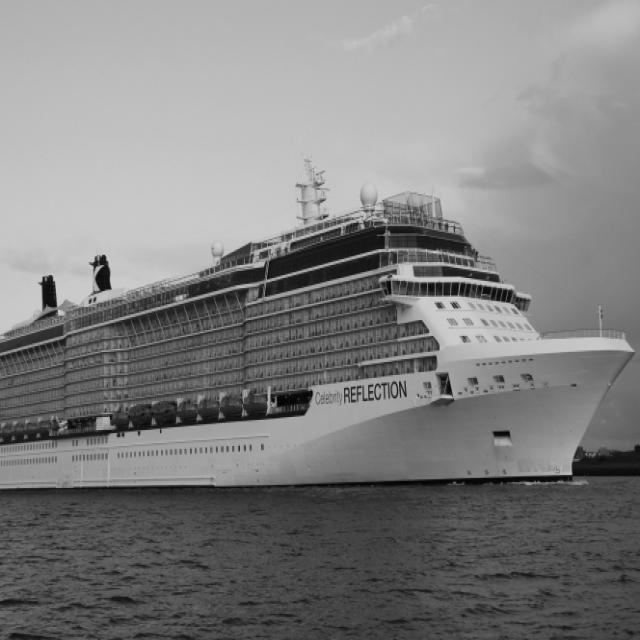cruises: (1, 154, 640, 505)
